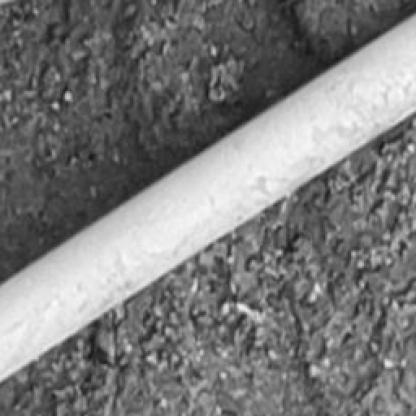PVC: (0, 13, 414, 382)
